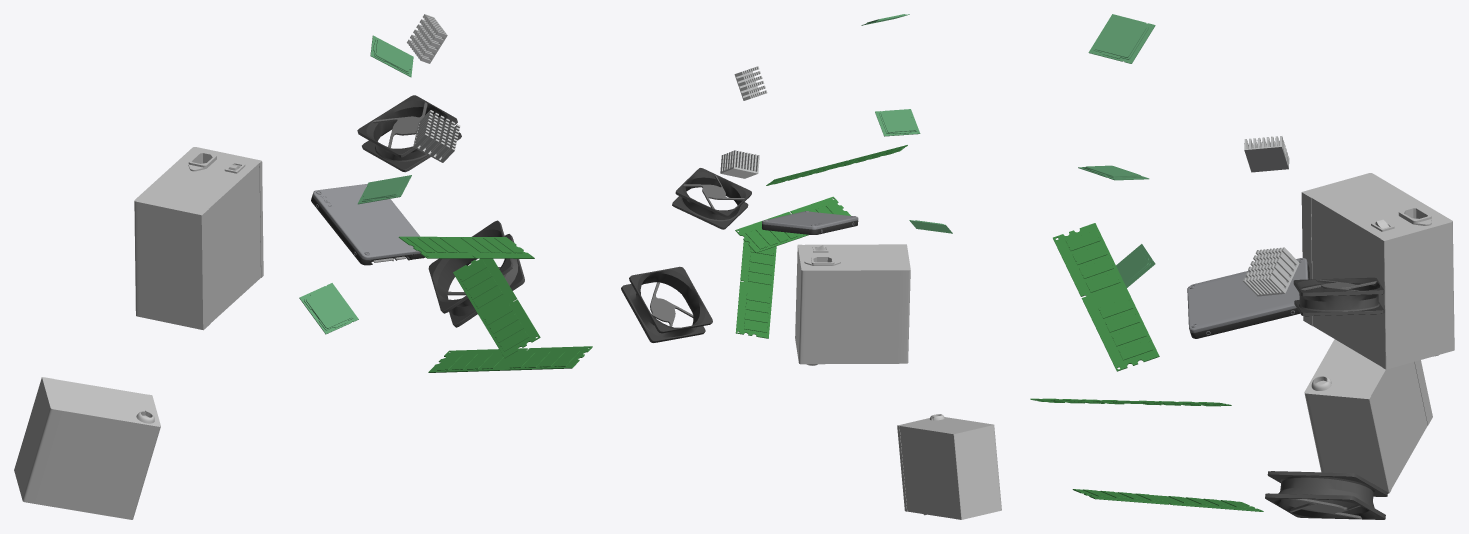
File: Computer_parts 1.fbx
The picture shows the model from 3 angles, left to right: view 1: azimuth 30°, elevation 25°; view 2: azimuth 150°, elevation 25°; view 3: azimuth 270°, elevation 25°; orthographic projection. The views are drawn at different scales.
Parts seen in each view (by area): view 1: PSU, PSU.001, 2.5inch_SSD, RAM.002, FAN.004, RAM, FAN.000, RAM.001, CPU, HeatSink, HeatSink.001, CPU.002 (+1 smaller); view 2: PSU, PSU.001, FAN.000, RAM, FAN.004, RAM.002, 2.5inch_SSD, CPU.001, HeatSink, RAM.001, HeatSink.001; view 3: PSU, PSU.001, RAM.001, 2.5inch_SSD, FAN.000, FAN.004, CPU.002, HeatSink, RAM, HeatSink.001, CPU, RAM.002 (+1 smaller).
Part boxes in pixels (x1,y1,x2,y2): PSU: [134, 147, 263, 330]; PSU.001: [14, 377, 160, 519]; 2.5inch_SSD: [311, 183, 425, 265]; RAM.002: [453, 258, 540, 358]; FAN.004: [357, 95, 461, 172]; RAM: [428, 346, 592, 372]; FAN.000: [428, 220, 524, 327]; RAM.001: [398, 236, 534, 258]; CPU: [299, 283, 358, 334]; HeatSink: [413, 110, 460, 162]; HeatSink.001: [407, 14, 447, 63]; CPU.002: [370, 35, 413, 77]; PSU: [795, 244, 910, 365]; PSU.001: [897, 414, 1001, 519]; FAN.000: [621, 266, 712, 342]; RAM: [735, 240, 776, 338]; FAN.004: [672, 168, 751, 229]; RAM.002: [735, 196, 850, 252]; 2.5inch_SSD: [762, 211, 858, 234]; CPU.001: [875, 109, 920, 136]; HeatSink: [720, 150, 759, 178]; RAM.001: [766, 145, 907, 185]; HeatSink.001: [734, 66, 767, 100]; PSU: [1301, 173, 1454, 369]; PSU.001: [1304, 339, 1432, 493]; RAM.001: [1053, 223, 1159, 371]; 2.5inch_SSD: [1187, 258, 1309, 338]; FAN.000: [1265, 471, 1387, 519]; FAN.004: [1293, 277, 1384, 316]; CPU.002: [1088, 14, 1155, 63]; HeatSink: [1243, 247, 1299, 296]; RAM: [1072, 489, 1263, 511]; HeatSink.001: [1244, 136, 1289, 172]; CPU: [1116, 244, 1155, 287]; RAM.002: [1030, 398, 1231, 406].
Size of the model in its own units: 1634 by 1628 by 1139.
